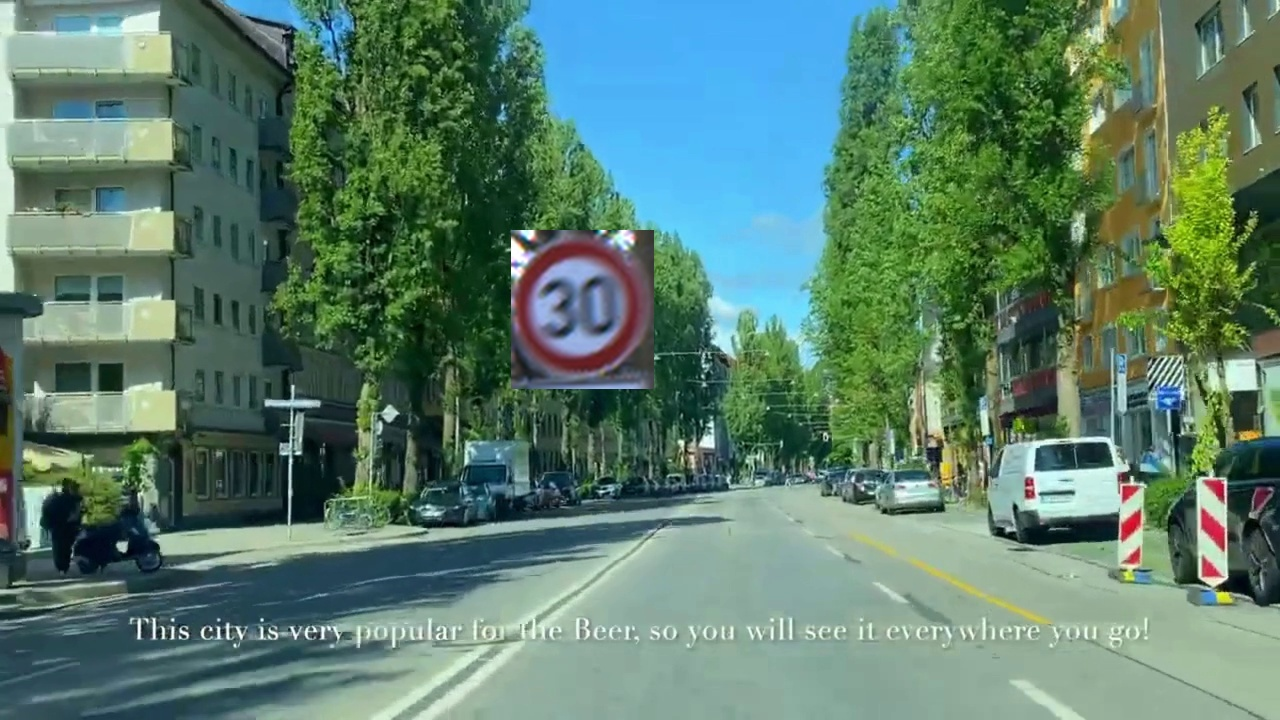Speed 30: (511, 230, 654, 389)
